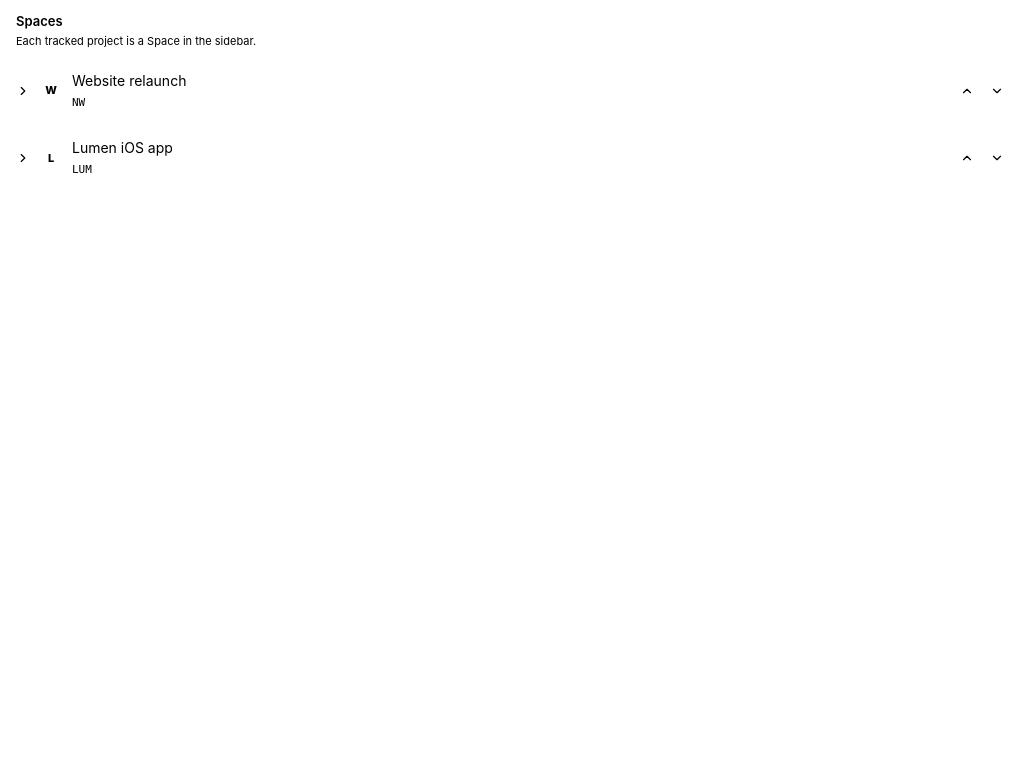
Test: SpacesPage › moving › shows an error toast when the move is rejected
Expected: the element "Spaces" is shown, [0,12,1023,192]
Click the button named "Move Website relaunch down" at (997, 91), box [986,80,1008,102]
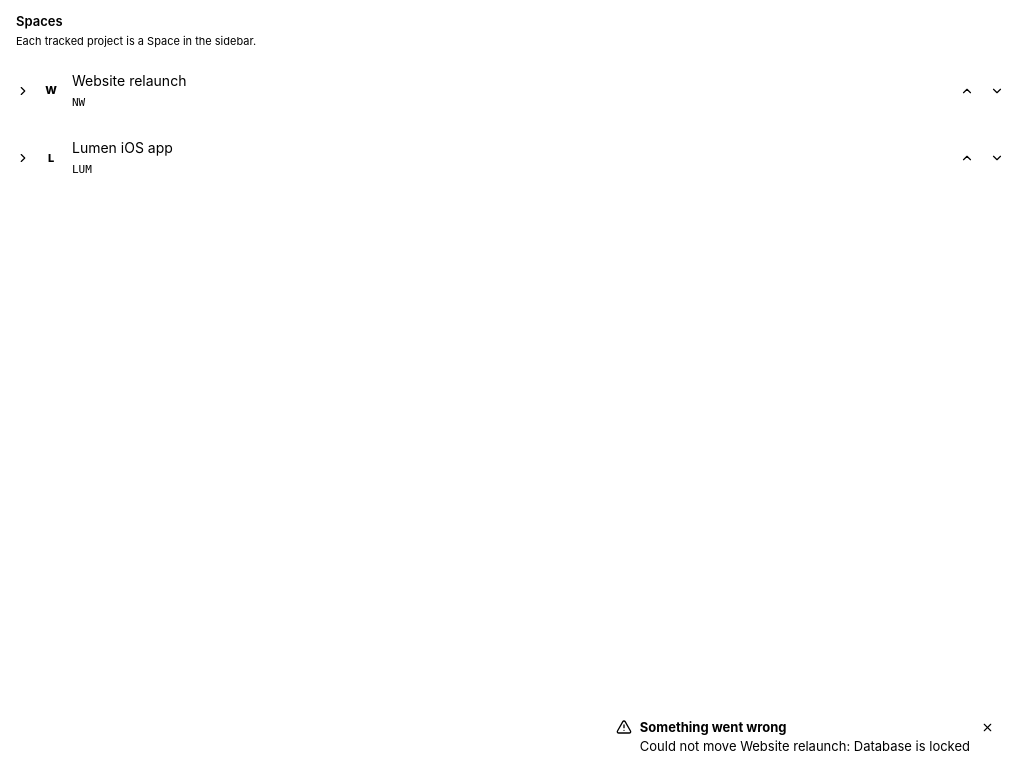
Expected: the message shows "Could not move Website relaunch: Database is locked", [640,738,970,754]
